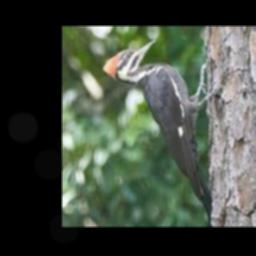Woodpecker: (102, 40, 214, 225)
